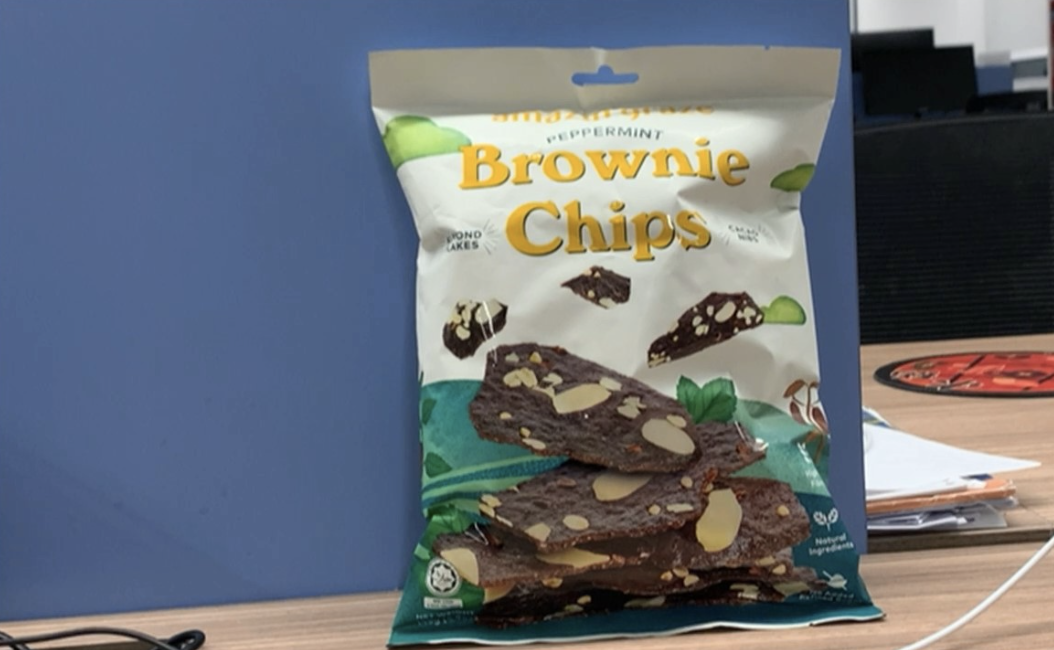crackers_100g-199g: (422, 109, 827, 622)
